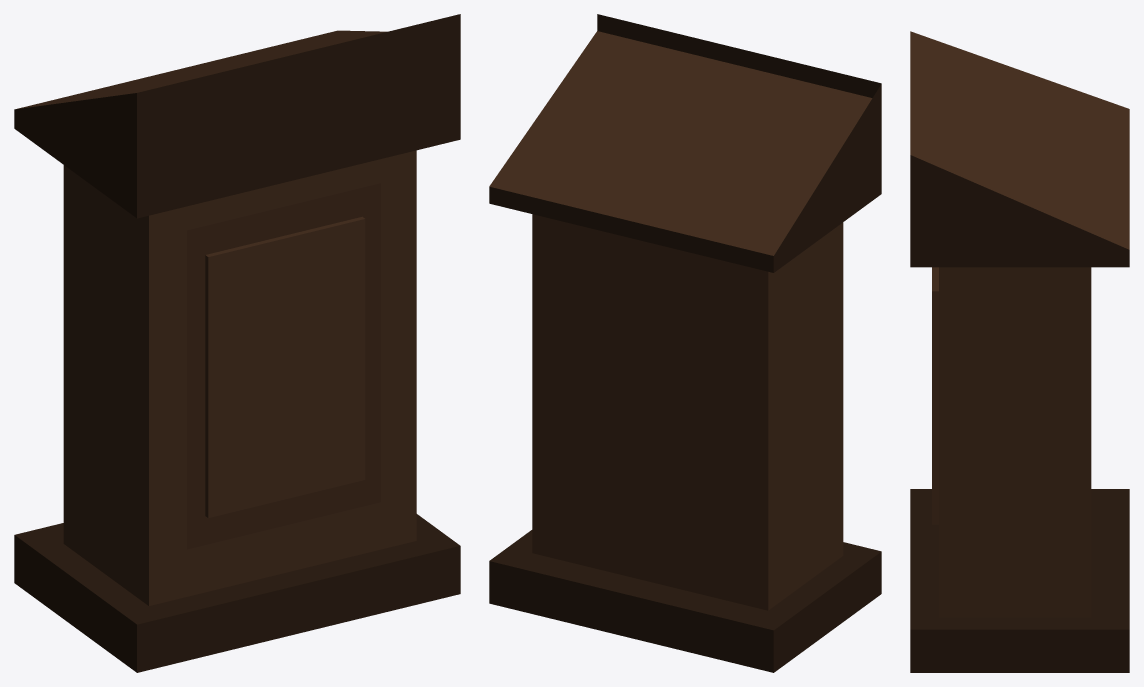
Rendered from table.lectern.dark.glb.
3 renders of one model, left to right at view 1: azimuth 30°, elevation 25°; view 2: azimuth 150°, elevation 25°; view 3: azimuth 270°, elevation 25°, orthographic. The views are drawn at different scales.
Visible parts, largest first — view 1: table_lectern_dark; view 2: table_lectern_dark; view 3: table_lectern_dark.
Boxes of the visible parts, bbox=[...] form: table_lectern_dark: bbox=[14, 14, 460, 672]; table_lectern_dark: bbox=[489, 14, 881, 672]; table_lectern_dark: bbox=[910, 31, 1129, 672].
Size of what is drawn, in the model's own units: 0.7 by 1.2 by 0.46.
